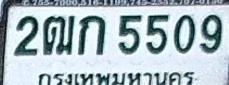0: (173, 14, 195, 54)
2: (14, 14, 38, 56)
5: (118, 14, 142, 54), (146, 14, 169, 54)
9: (200, 14, 222, 53)
A01: (78, 15, 105, 55)
A18: (42, 14, 76, 56)
BKK: (34, 69, 197, 85)
